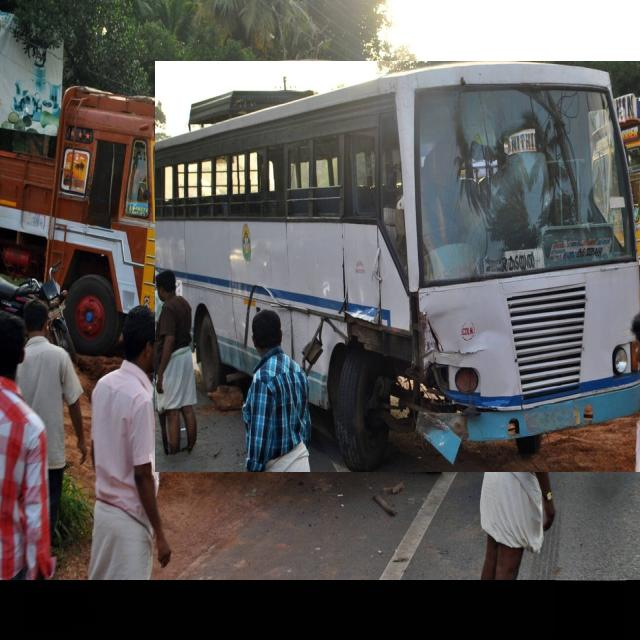accident: (155, 61, 640, 472)
motorcycle: (0, 262, 76, 360)
truck: (0, 86, 179, 355)
